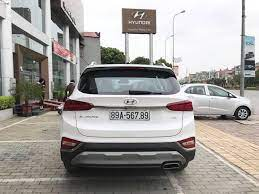Car number plates: (109, 109, 150, 121)
